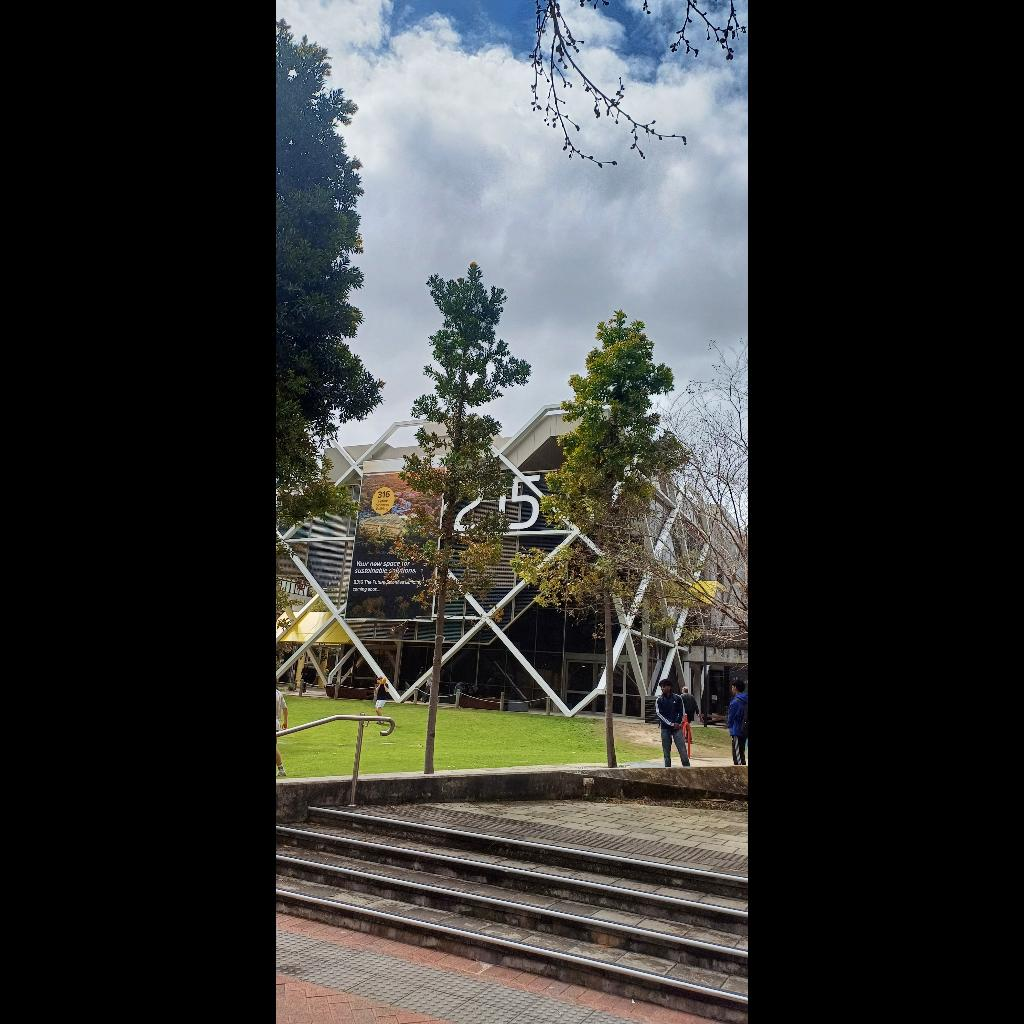BuildingCodes: (454, 468, 546, 536)
